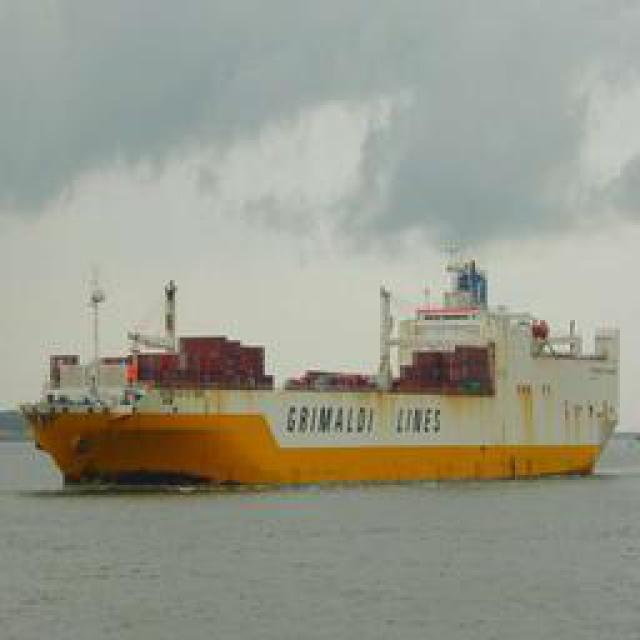Ship: (28, 252, 640, 490)
